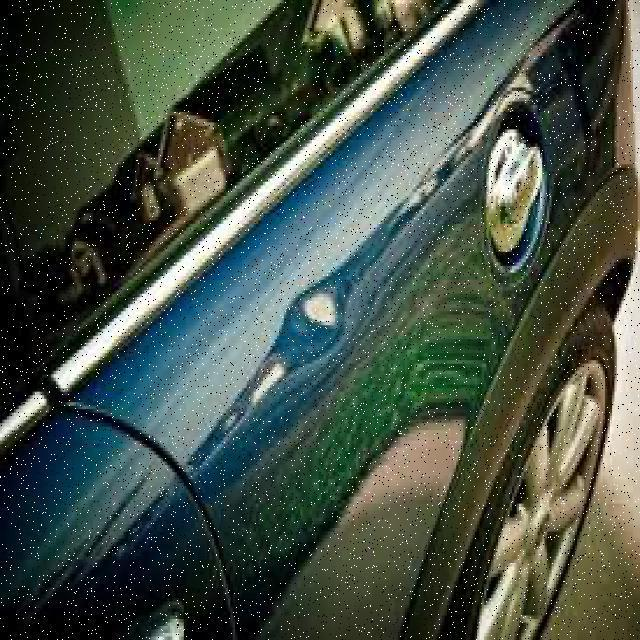quaterpanel-dent: (235, 116, 633, 636)
